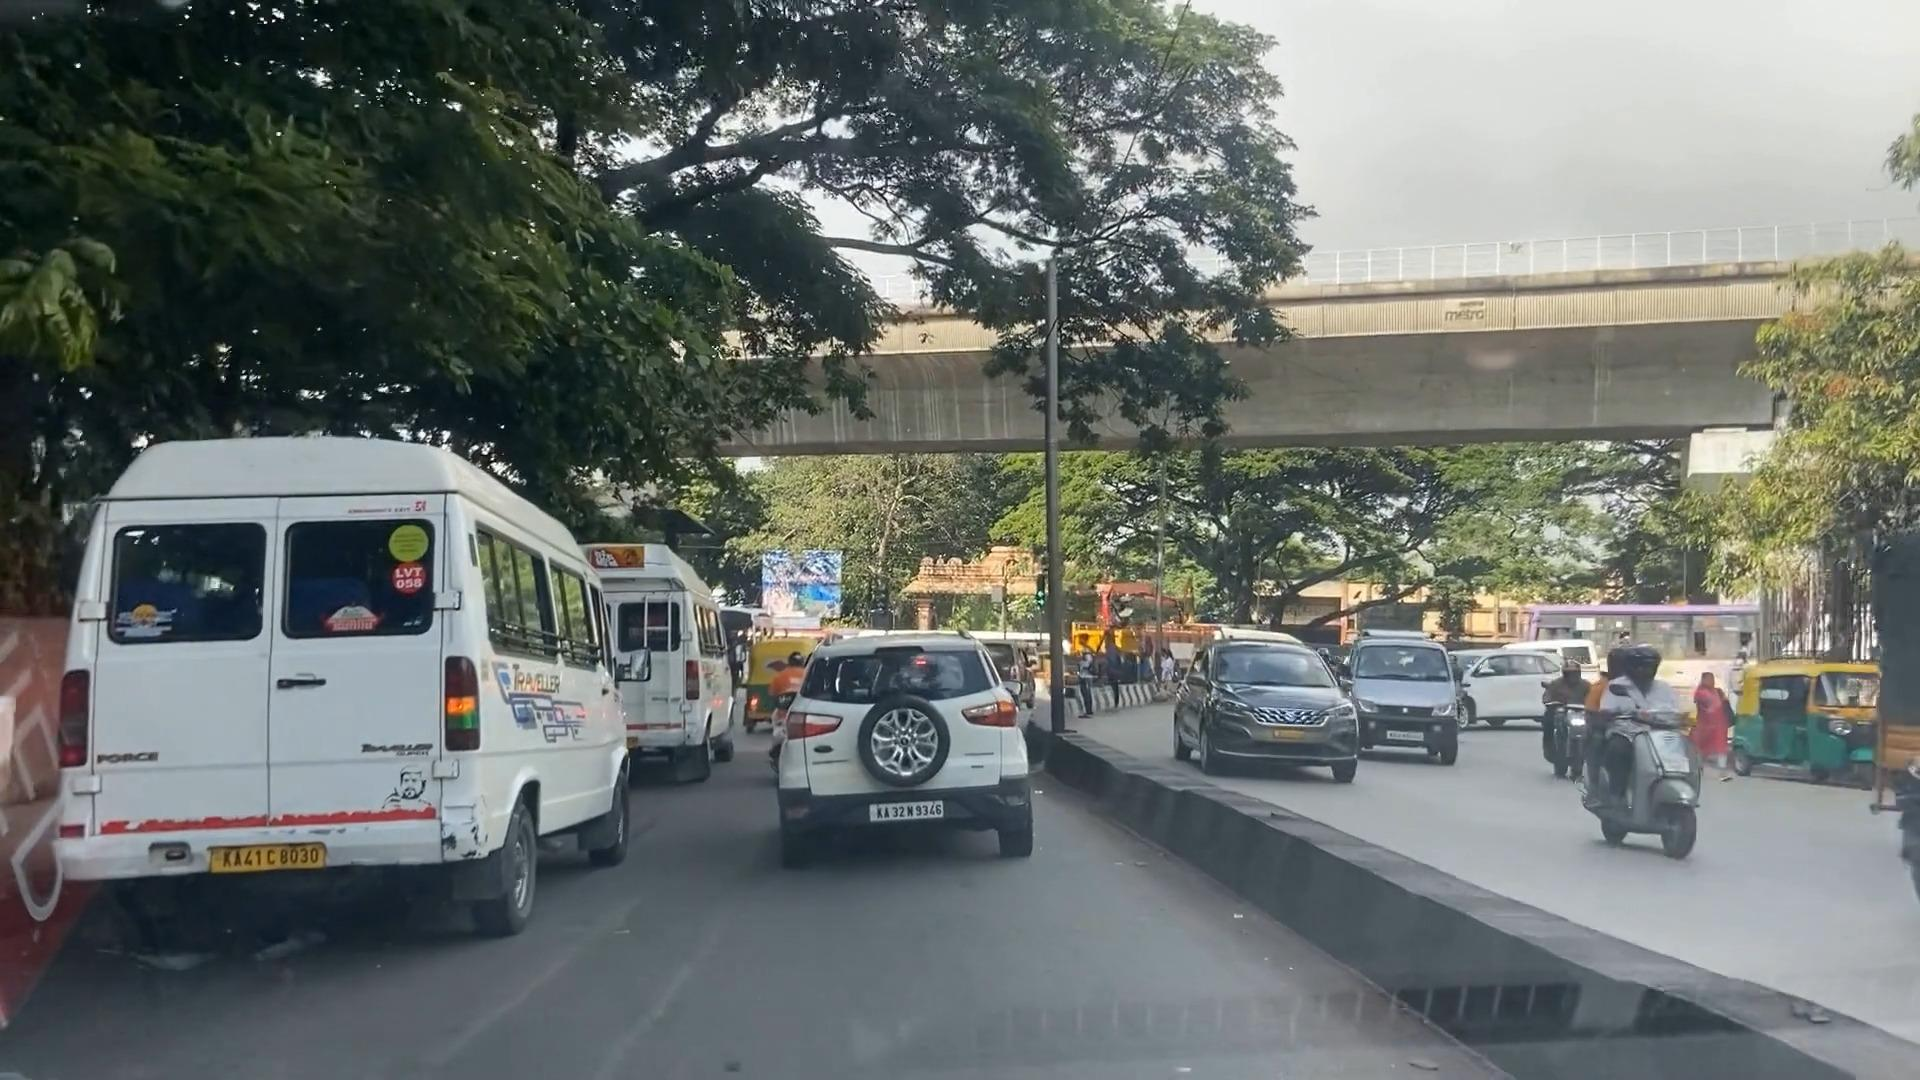HMV: (86, 458, 637, 922), (600, 538, 745, 777)
LMV: (786, 646, 1046, 873)
